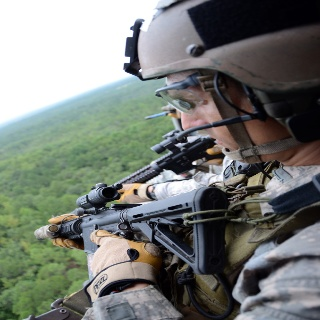rifle: (34, 182, 226, 276), (110, 129, 217, 183)
